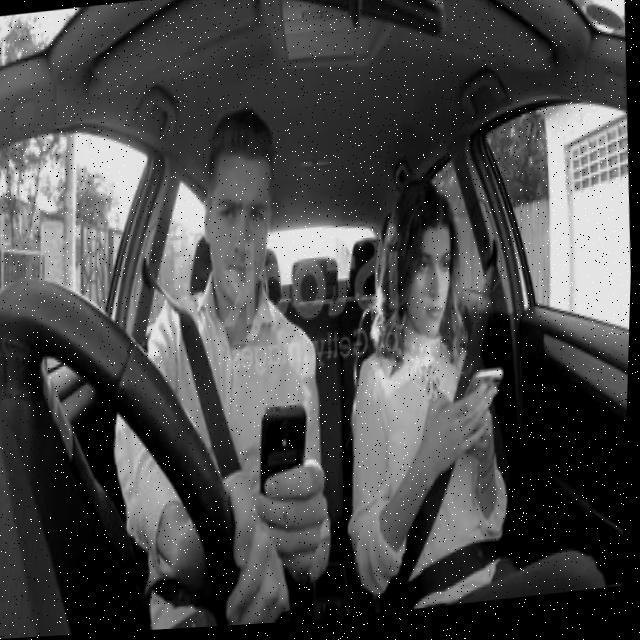PhoneCall: (255, 402, 315, 526), (464, 372, 510, 432)
